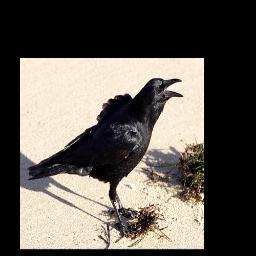Crow: (27, 77, 184, 240)
